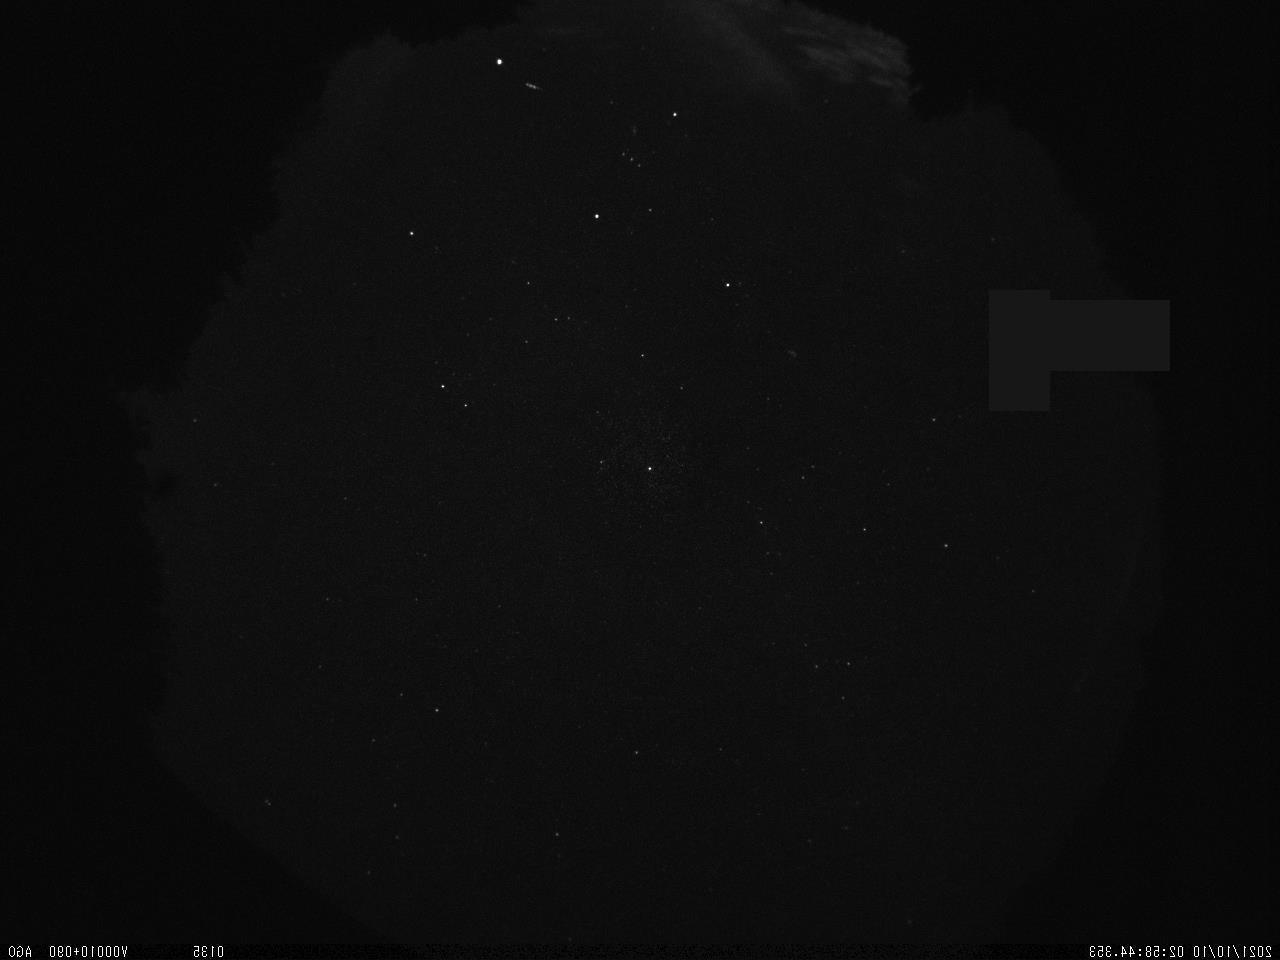meteor: (517, 76, 546, 98)
